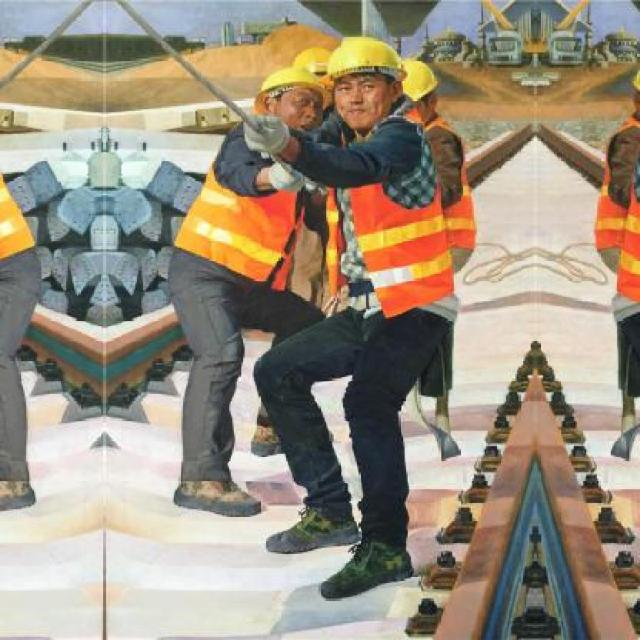helmet: (315, 30, 414, 130), (253, 66, 324, 128), (397, 55, 443, 117), (626, 55, 639, 118)
